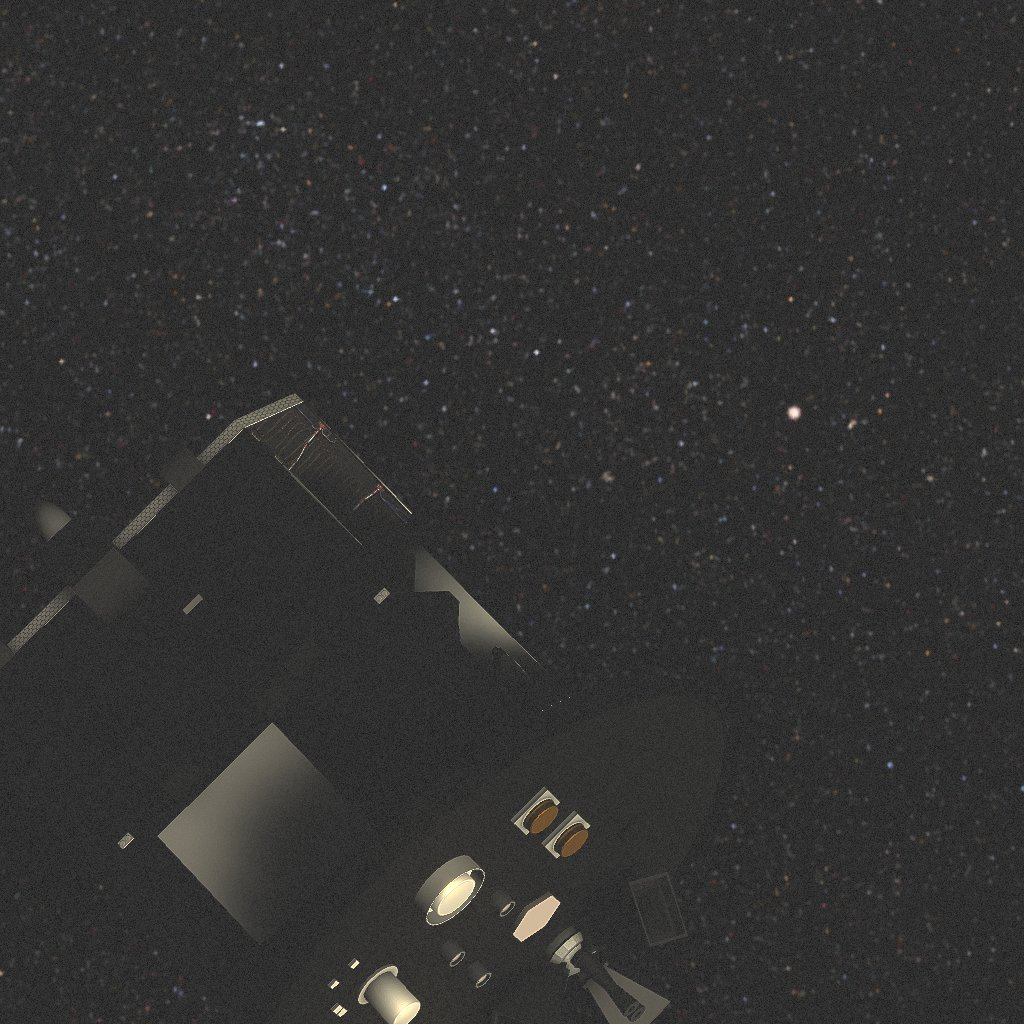proba_3_ocs: (0, 393, 731, 1024)
